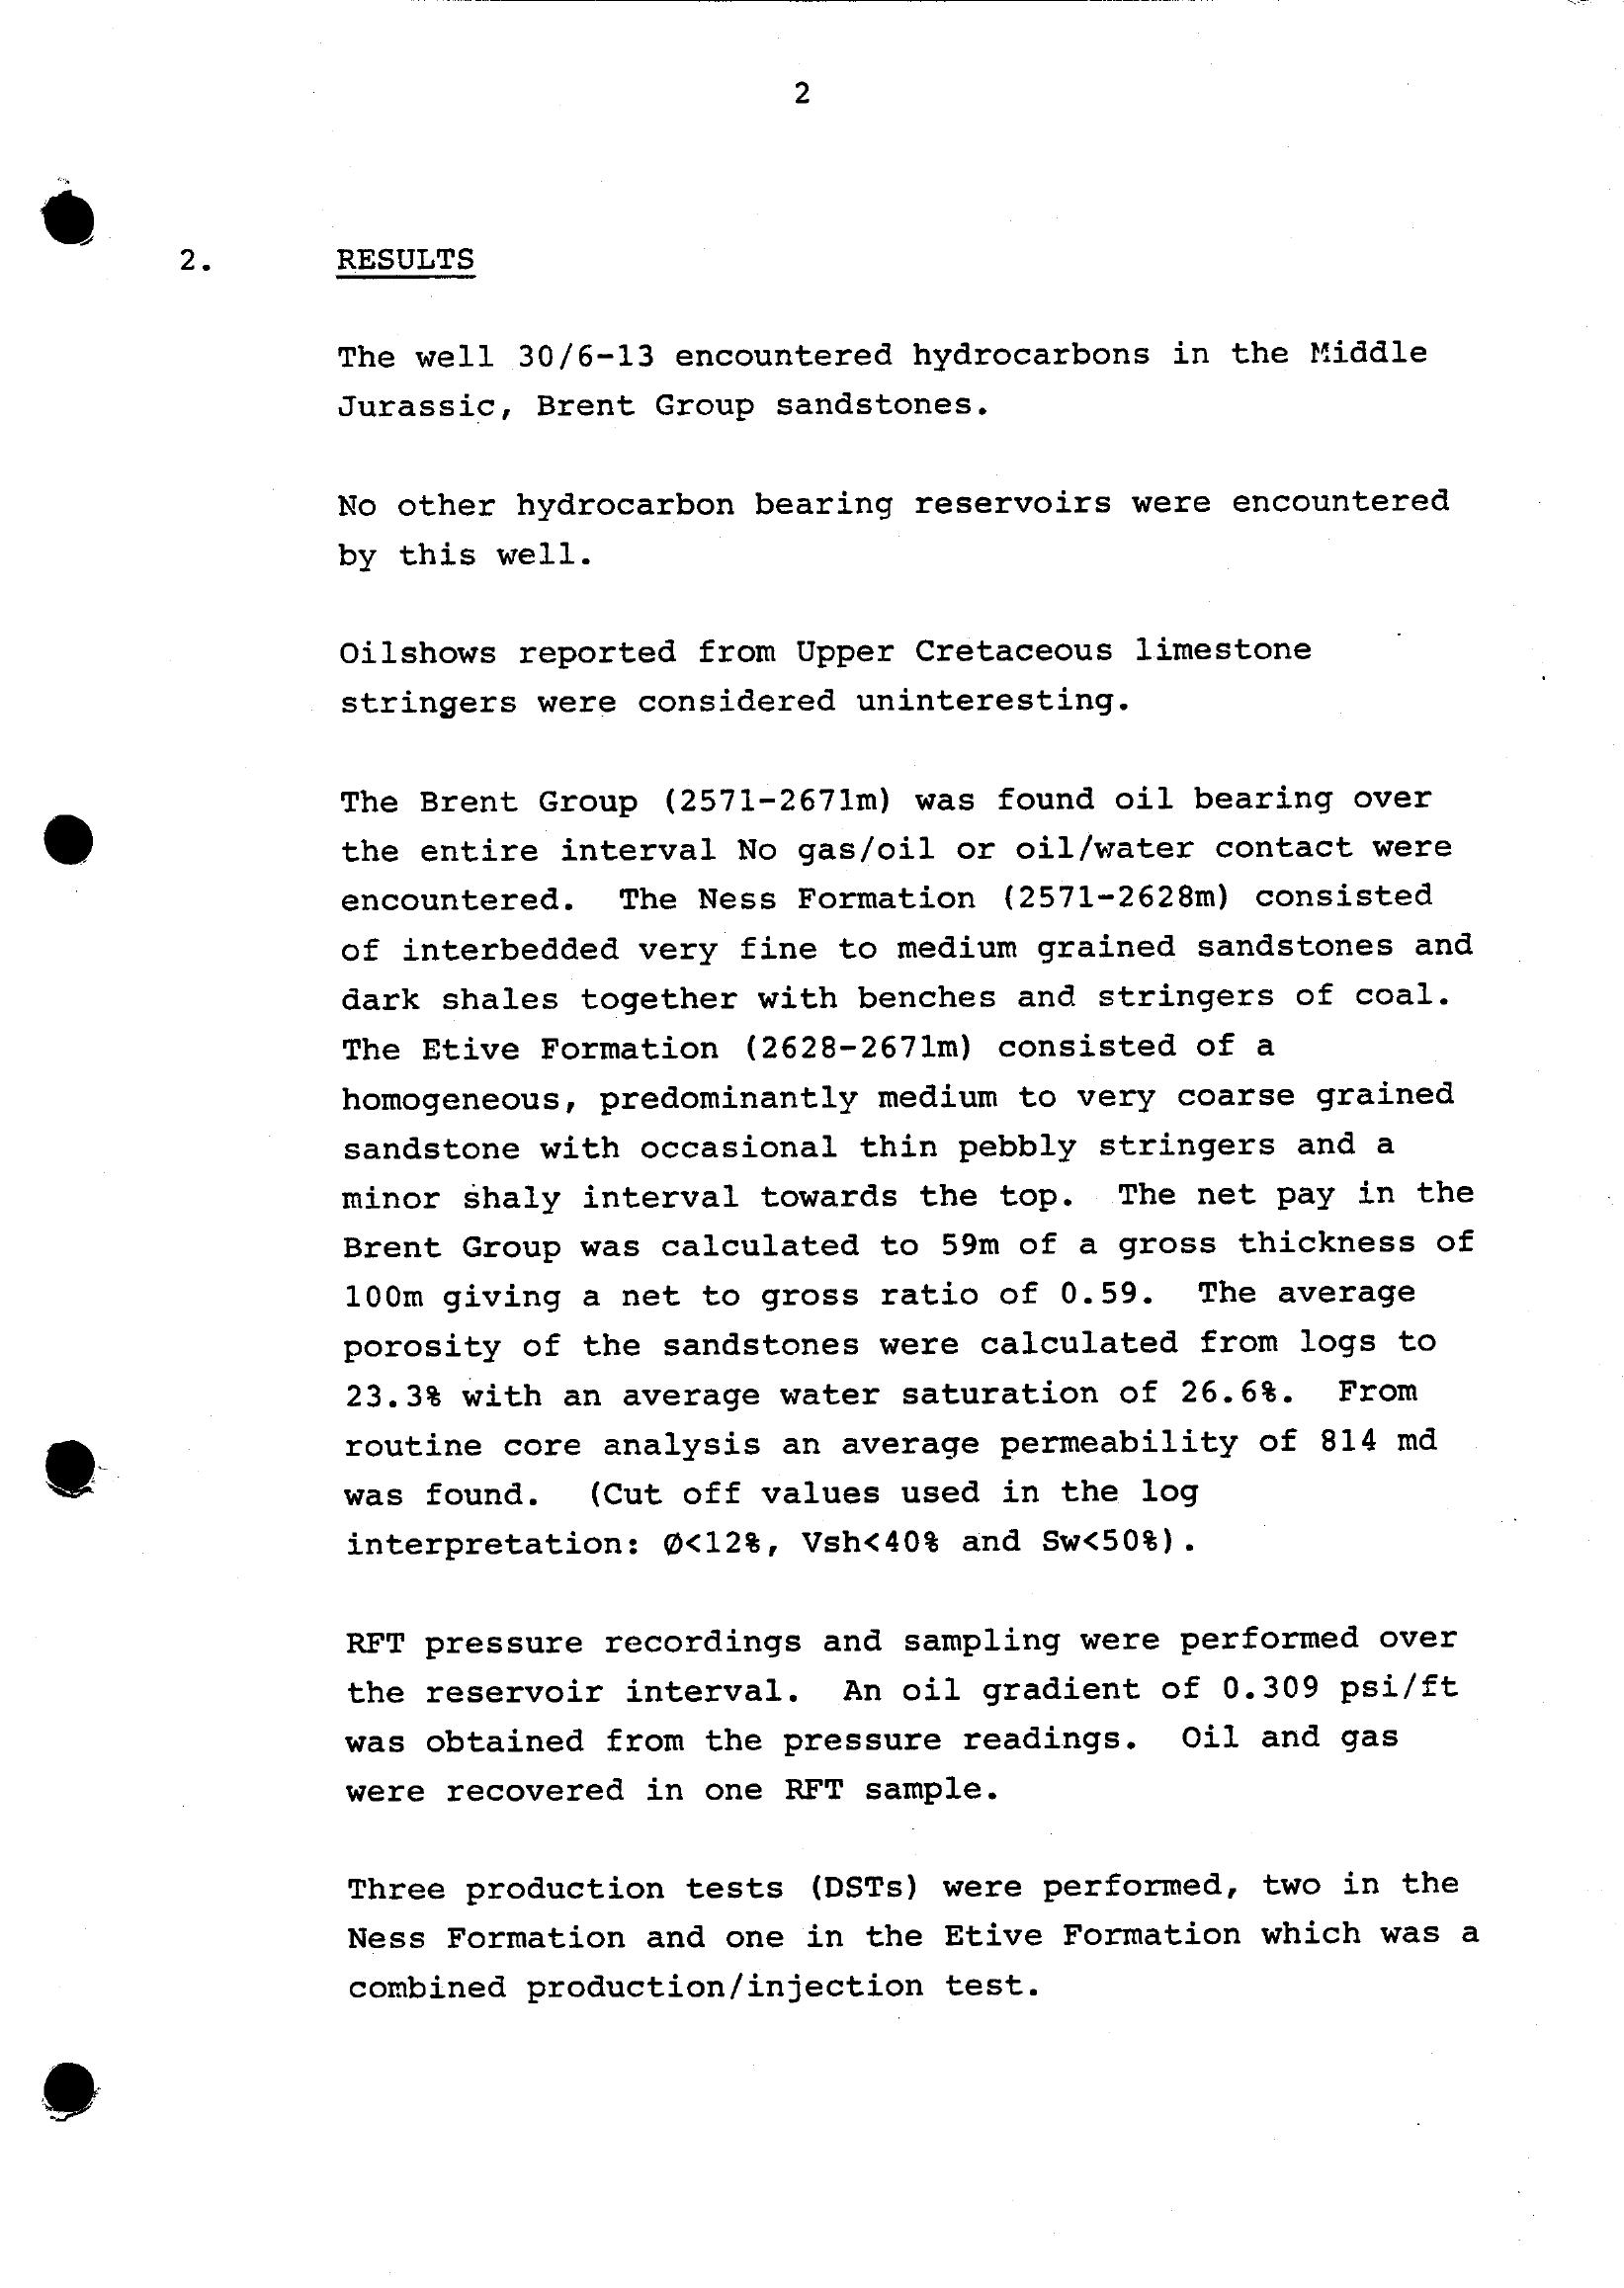text: (292, 193, 1522, 2040)
